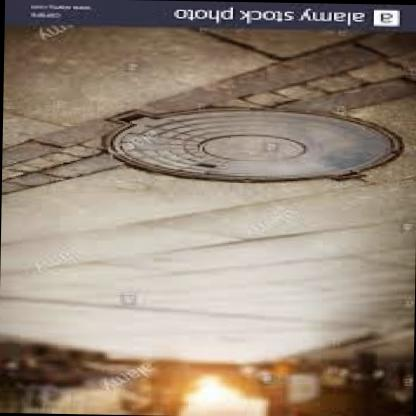manholes: (75, 66, 416, 208)
